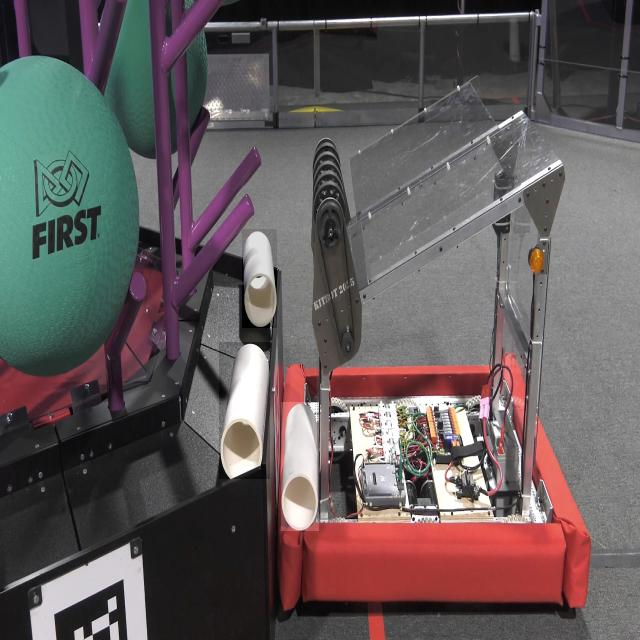Coral: (219, 342, 270, 479), (281, 402, 319, 531), (242, 229, 277, 328)
